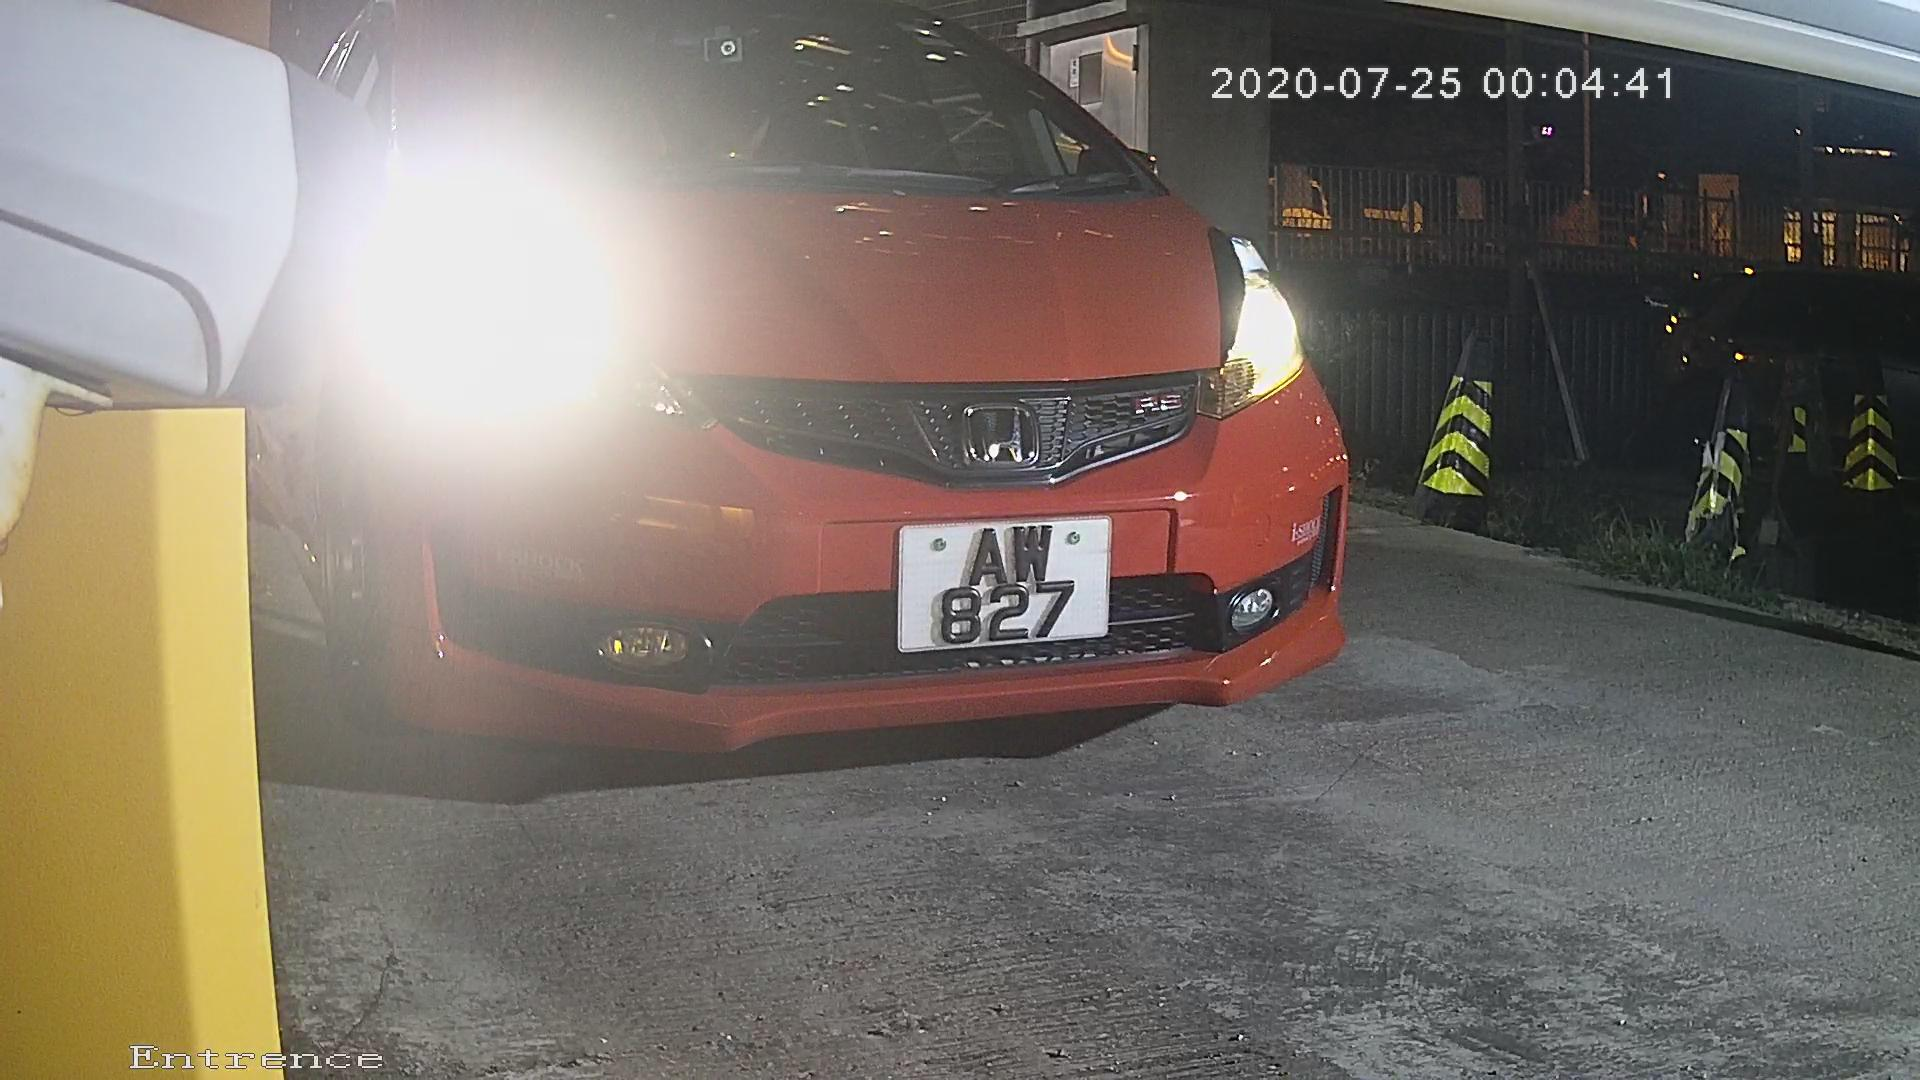License Plate: (865, 497, 1139, 677)
